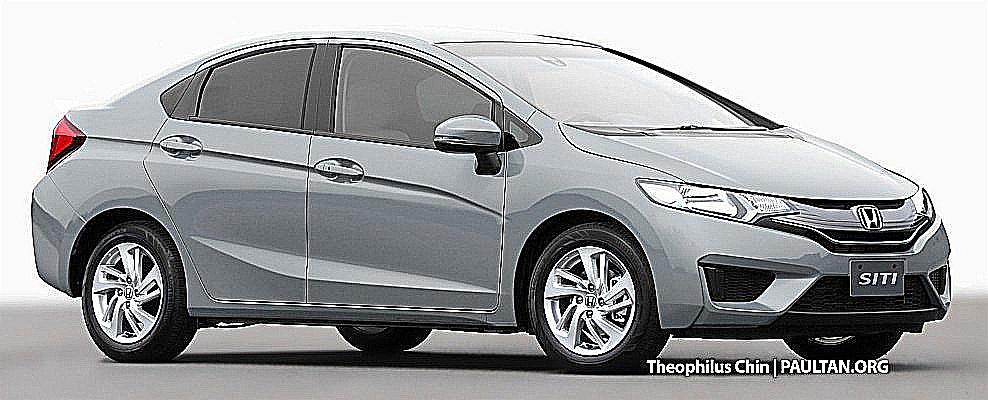Car hood: (557, 120, 919, 201)
Driver-s door - -F-R-: (302, 15, 514, 334)
Fender - -F-R-: (492, 108, 707, 346)
Fender - -R-R-: (52, 51, 193, 223)
Front bumper: (648, 229, 957, 330)
Headlight - -R-: (632, 174, 801, 229)
Passenger-s door - -R-R-: (140, 21, 334, 312)
Rear bumper: (27, 171, 86, 301)
Side bumper - -R-: (182, 285, 524, 338)
Side mirror - -L-: (904, 179, 936, 226)
Side mirror - -R-: (432, 116, 506, 173)
